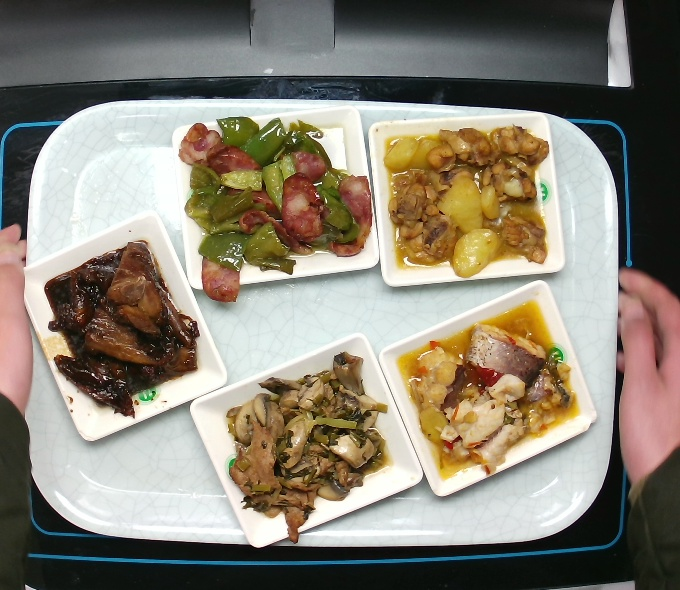wcq-JiangZhiYa: (43, 238, 201, 419)
wcq-MoGuRouPian: (223, 350, 392, 547)
wcq-QingJiaoXiangChang: (176, 112, 375, 305)
wcq-SuanCaiYu: (395, 300, 580, 476)
wcq-TuDouJiKuai: (380, 121, 556, 280)
